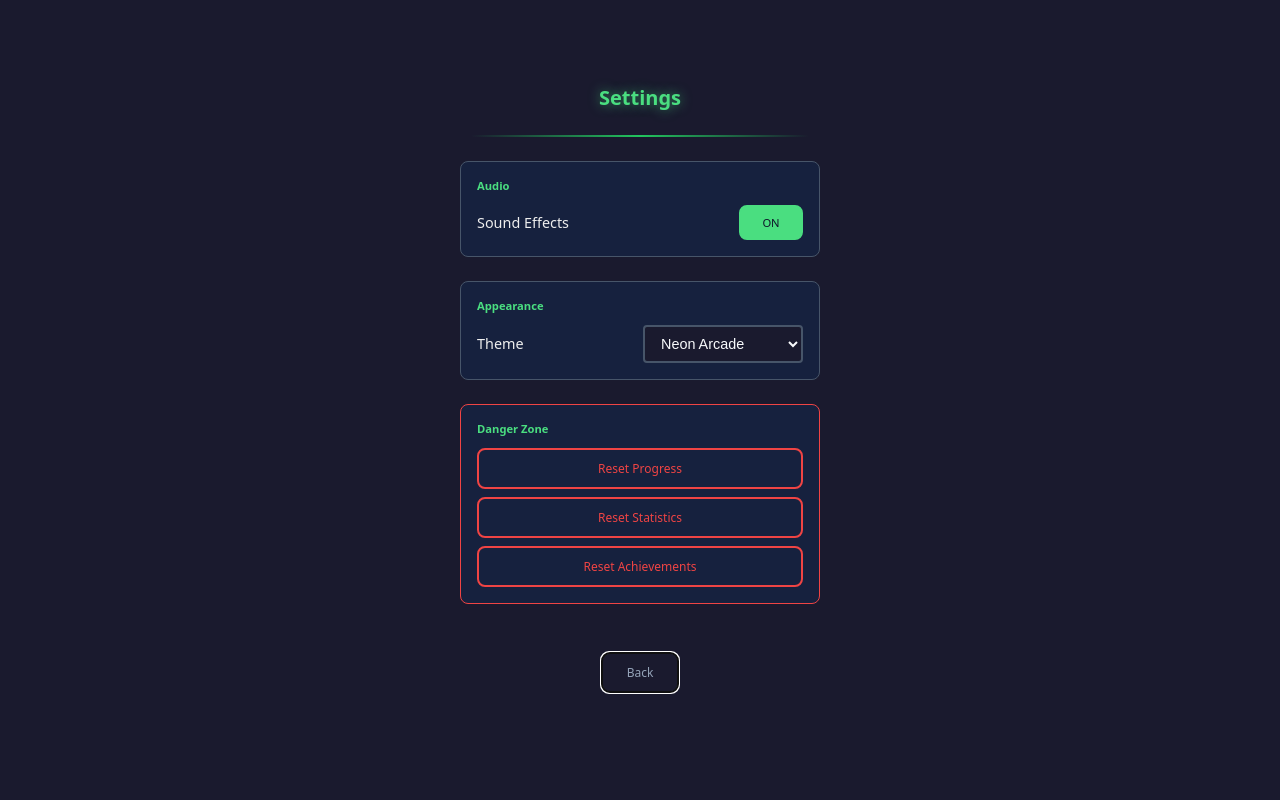
it: SettingsScreen › shows confirmation dialog when Reset Progress is clicked
Click the button "Reset Progress": {"x": 640, "y": 468} [477,448,803,488]
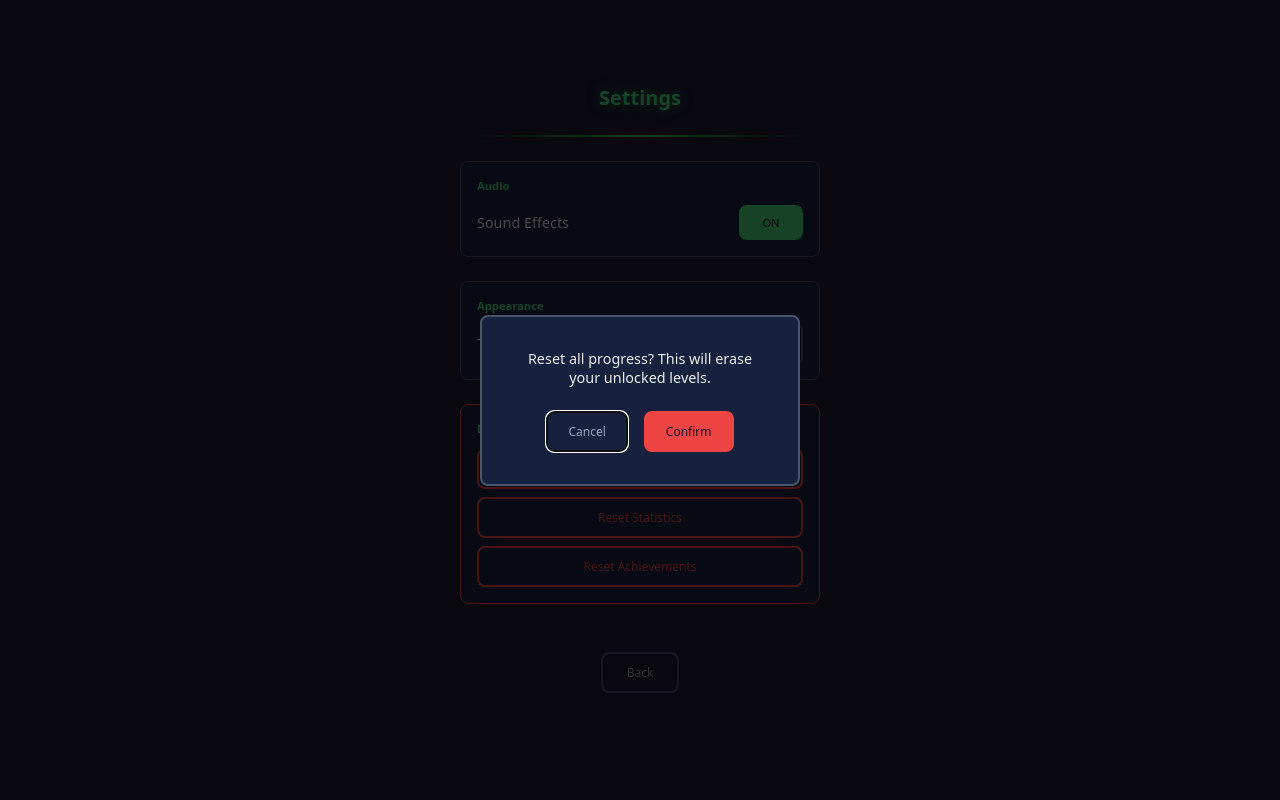
Expected: the text "Reset all progress? This will erase your unlocked levels." is shown, [514,348,766,386]
